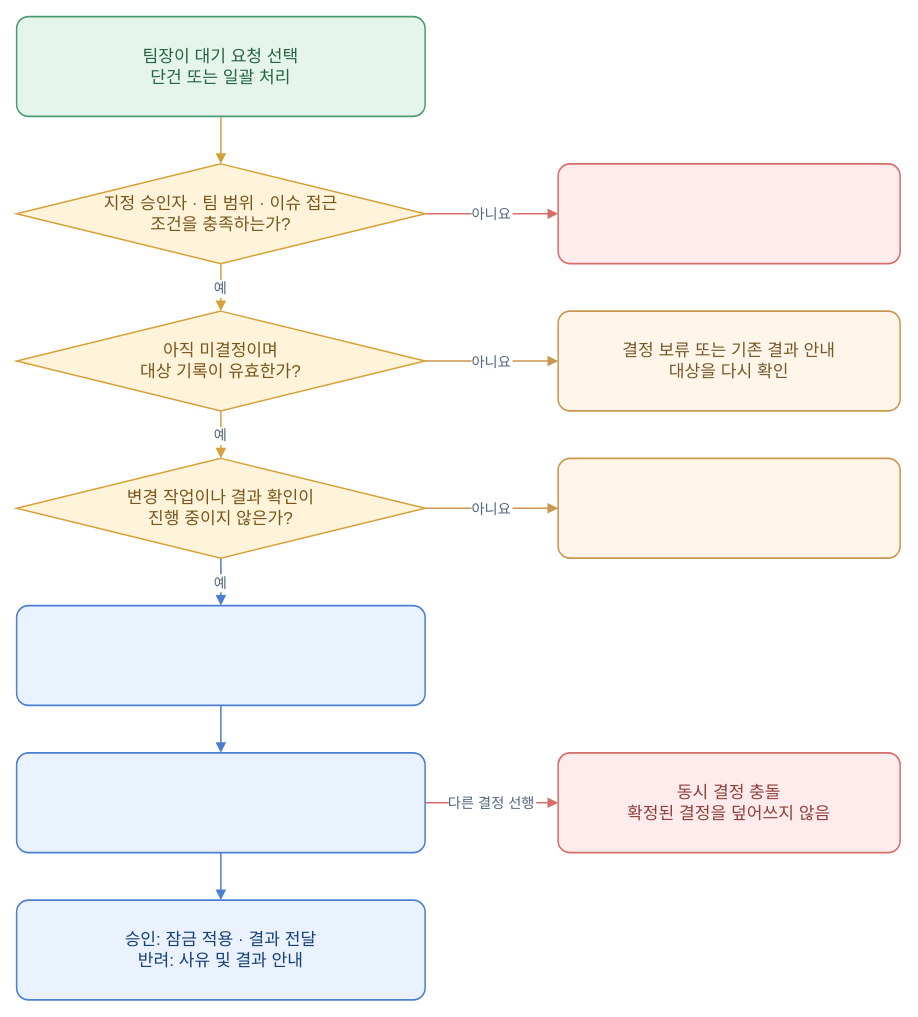
Some shapes in this 918 by 1017 pixel diagram are drawn without their labels. Each missing label, with the box of its shape:
결정자 · 시각 · 당시 값 보존 중복 결정 방지: (15, 752, 425, 853)
승인 거부 허용 범위 밖 정보 비노출: (557, 163, 900, 264)
승인 보류 변경 결과 확인 후 재시도: (557, 457, 900, 558)
팀장이 승인 또는 반려 선택 일괄 요청도 건별 확인: (15, 604, 425, 706)
